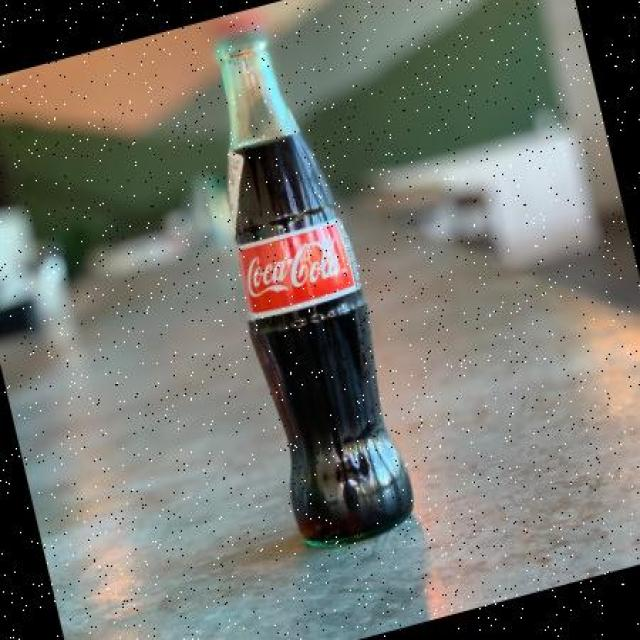coca-cola: (169, 6, 437, 562)
